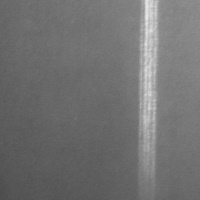scratches: (137, 0, 162, 190)
